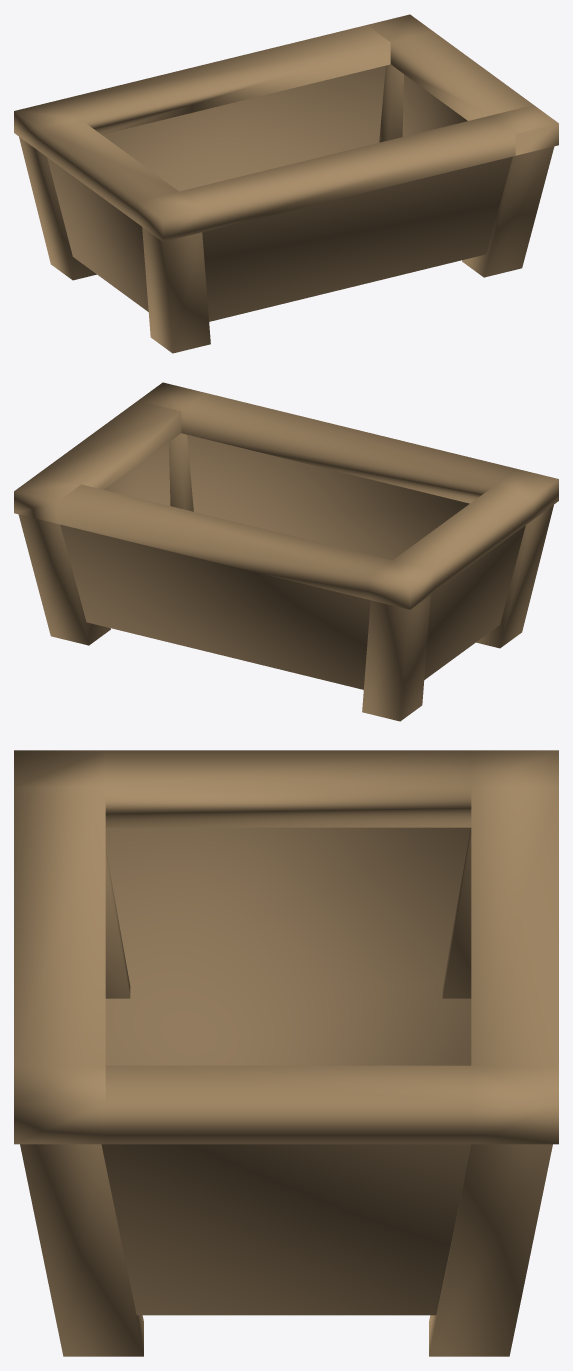
File: rpgpp_ag_container_wood_01.fbx
3 renders of one model, top to bottom at view 1: azimuth 30°, elevation 25°; view 2: azimuth 150°, elevation 25°; view 3: azimuth 270°, elevation 25°, orthographic. The views are drawn at different scales.
Parts seen in each view (by area): view 1: rpgpp_ag_container_wood_01; view 2: rpgpp_ag_container_wood_01; view 3: rpgpp_ag_container_wood_01.
Part boxes in pixels (x1,y1,x2,y2): rpgpp_ag_container_wood_01: [14, 14, 558, 353]; rpgpp_ag_container_wood_01: [14, 382, 558, 721]; rpgpp_ag_container_wood_01: [14, 750, 558, 1356].
Bounding box in the file's own units: 0.5728 × 0.206 × 0.3728.
